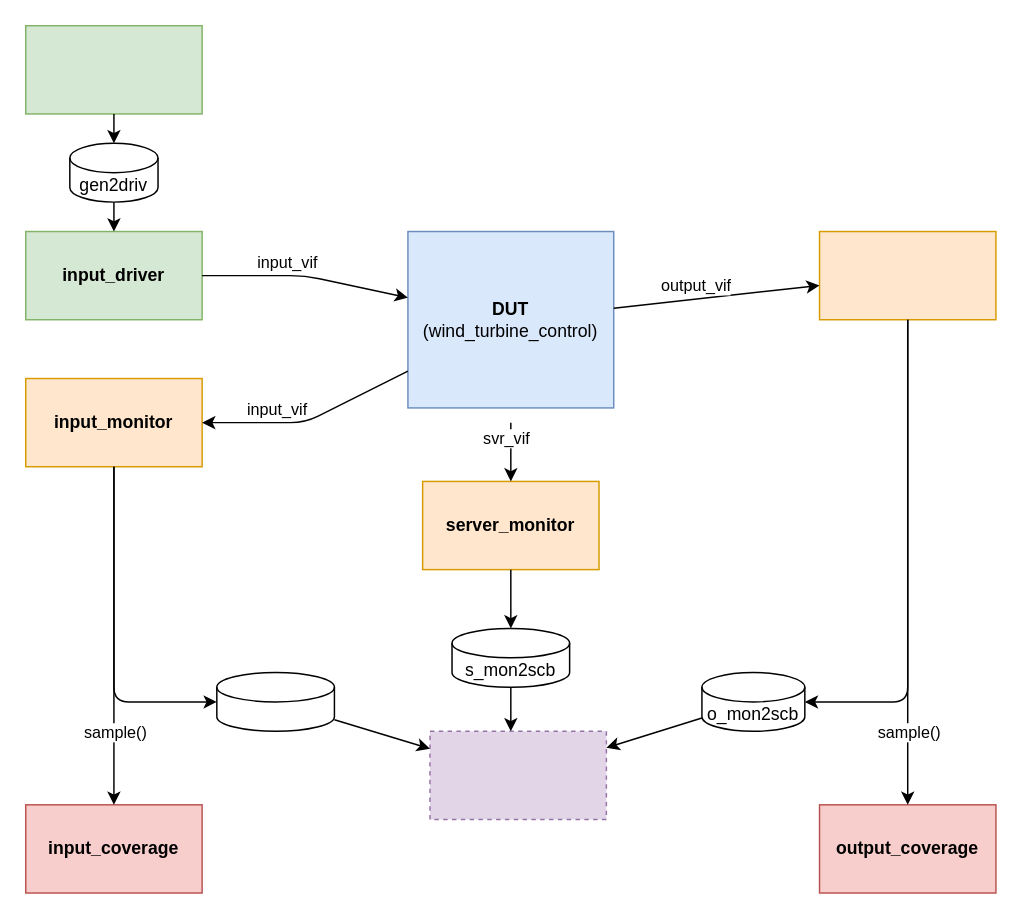
This 1022x919 diagram has some shape labels left out. The shapes that lost their labels are listed below. From the top down, each one's centre as x and y in pixels, then its label:
At point (113, 69): "input_generator".
At point (907, 275): "output_monitor".
At point (274, 701): "i_mon2scb".
At point (517, 775): "Scoreboard".
